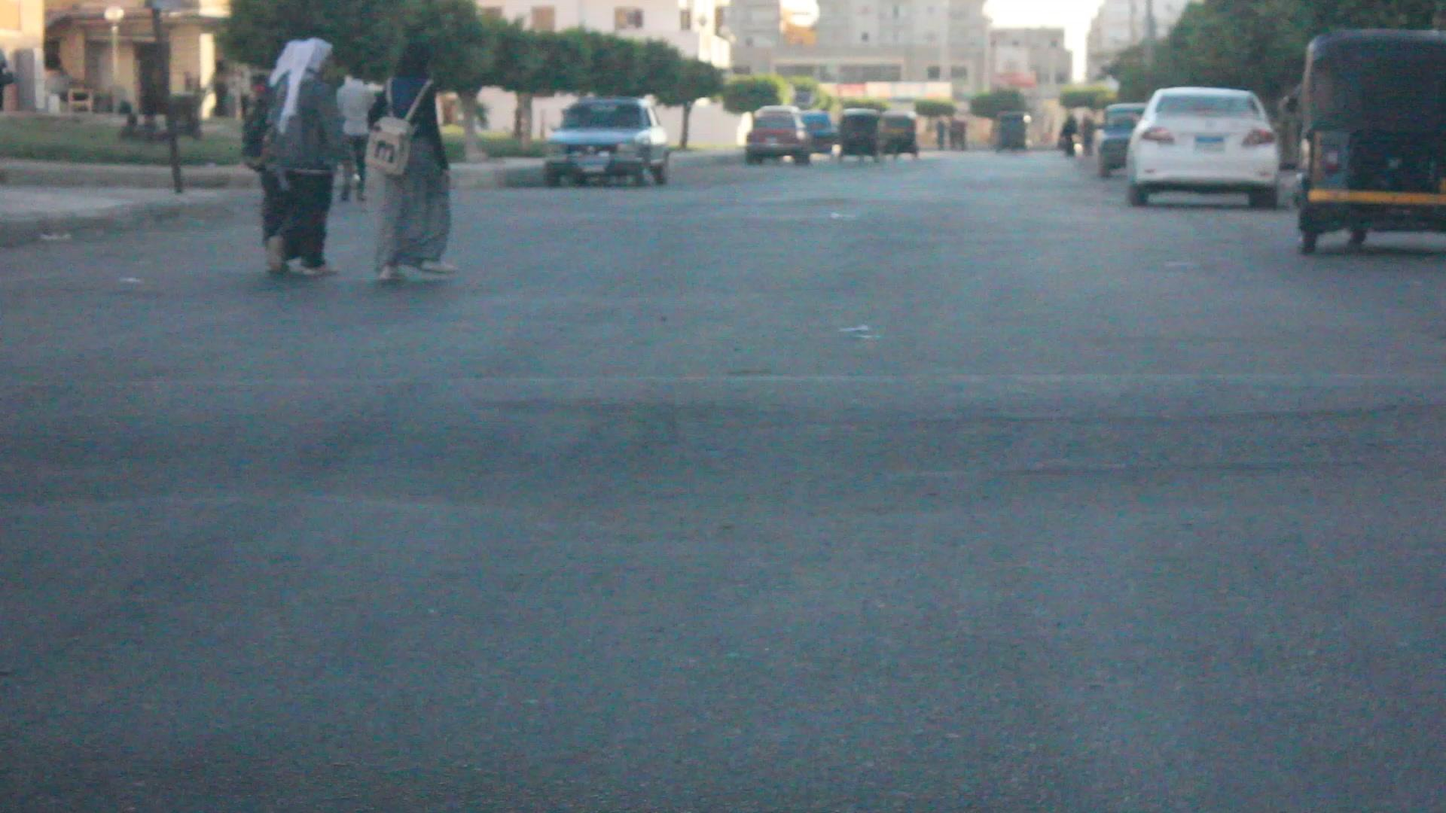Bump: (0, 346, 1446, 489)
